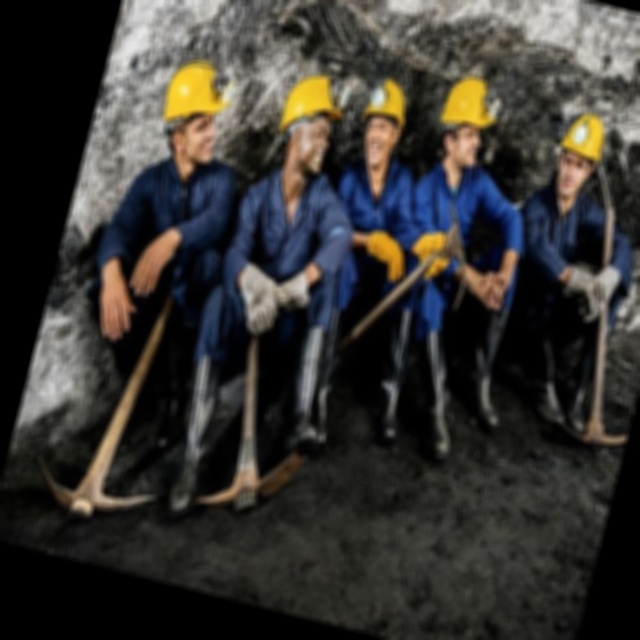Con_Casco: (151, 56, 240, 169), (270, 65, 353, 183), (355, 74, 414, 169)
